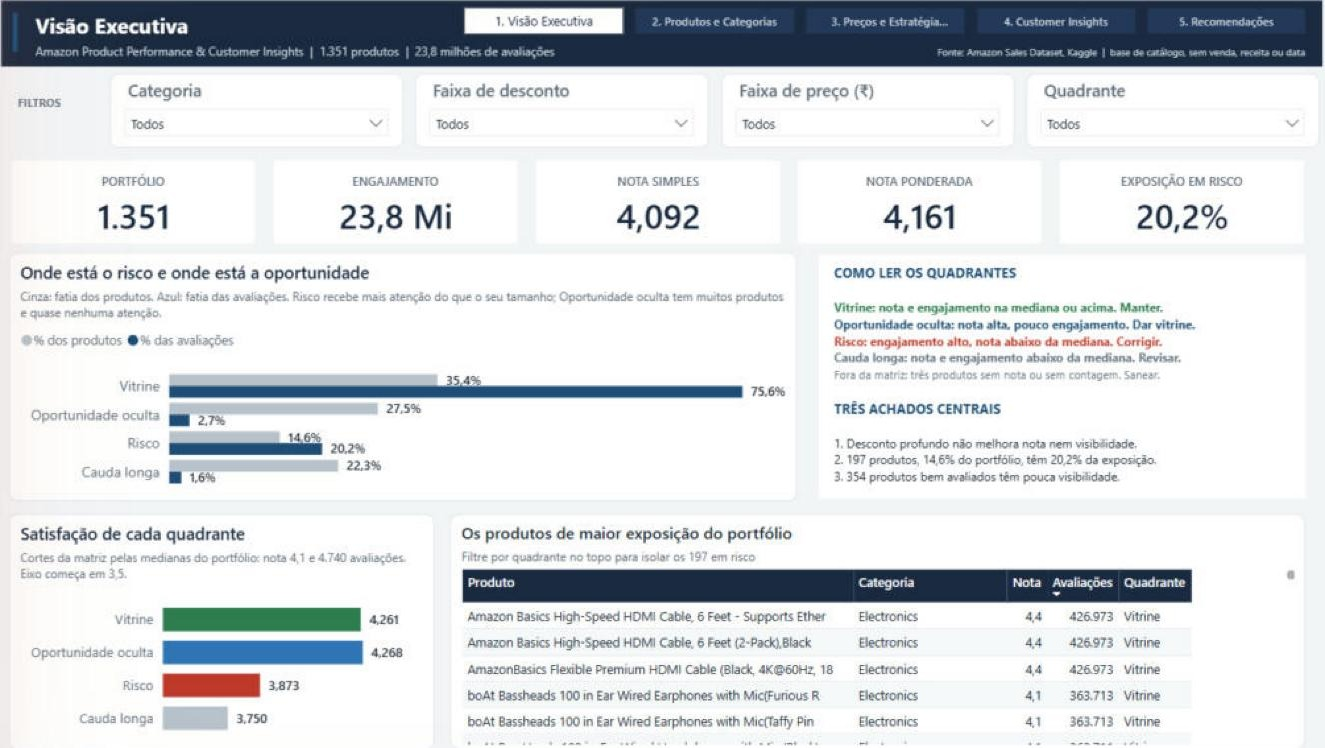

This screenshot's page, from the dashboard's own definition file:
{"tool":"powerbi","page":{"name":"1. Visão Executiva","canvas":[1280,720],"ordinal":0},"visuals":[{"type":"basicShape","box":[0,0,1280,64],"z":0},{"type":"basicShape","box":[0,64,1280,2],"z":1000},{"type":"basicShape","box":[24,12,5,38],"z":2000},{"type":"textbox","box":[40,6,400,41],"z":3000},{"type":"textbox","box":[40,36,760,28],"z":4000},{"type":"textbox","box":[800,36,456,26],"z":6000},{"type":"textbox","box":[24,84,84,28],"z":7000},{"type":"slicer","fields":{"Values":["fProdutos.categoria_n1_agrupada"]},"box":[116,70,278,70],"z":8000},{"type":"slicer","fields":{"Values":["fProdutos.faixa_desconto"]},"box":[406,70,278,70],"z":9000},{"type":"slicer","fields":{"Values":["fProdutos.faixa_preco"]},"box":[696,70,278,70],"z":10000},{"type":"slicer","fields":{"Values":["fProdutos.quadrante"]},"box":[986,70,278,70],"z":11000},{"type":"basicShape","box":[20,152,236,80],"z":12000},{"type":"basicShape","box":[20,152,236,4],"z":13000},{"type":"card","title":"PORTFÓLIO","fields":{"Values":["fProdutos.Produtos"]},"box":[20,158,236,74],"z":14000},{"type":"basicShape","box":[269,152,236,80],"z":15000},{"type":"basicShape","box":[269,152,236,4],"z":16000},{"type":"card","title":"ENGAJAMENTO","fields":{"Values":["fProdutos.Total de Avaliacoes"]},"box":[269,158,236,74],"z":17000},{"type":"basicShape","box":[518,152,236,80],"z":18000},{"type":"basicShape","box":[518,152,236,4],"z":19000},{"type":"card","title":"NOTA SIMPLES","fields":{"Values":["fProdutos.Nota Media Simples"]},"box":[518,158,236,74],"z":20000},{"type":"basicShape","box":[767,152,236,80],"z":21000},{"type":"basicShape","box":[767,152,236,4],"z":22000},{"type":"card","title":"NOTA PONDERADA","fields":{"Values":["fProdutos.Nota Media Ponderada"]},"box":[767,158,236,74],"z":23000},{"type":"basicShape","box":[1016,152,236,80],"z":24000},{"type":"basicShape","box":[1016,152,236,4],"z":25000},{"type":"card","title":"EXPOSIÇÃO EM RISCO","fields":{"Values":["fProdutos.Exposicao em Risco %"]},"box":[1016,158,236,74],"z":26000},{"type":"clusteredBarChart","title":"Onde está o risco e onde está a oportunidade","fields":{"Category":["fProdutos.quadrante"],"Y":["fProdutos.% dos Produtos no Portfolio","fProdutos.% das Avaliacoes no Portfolio"]},"box":[20,240,748,236],"z":27000},{"type":"basicShape","box":[784,240,472,236],"z":28000},{"type":"textbox","box":[798,246,444,226],"z":29000},{"type":"clusteredBarChart","title":"Satisfação de cada quadrante","fields":{"Category":["fProdutos.quadrante"],"Y":["fProdutos.Nota Media Simples"]},"box":[20,488,404,224],"z":30000},{"type":"tableEx","title":"Os produtos de maior exposição do portfólio","fields":{"Values":["fProdutos.rotulo","fProdutos.categoria_n1","fProdutos.nota","fProdutos.qtd_avaliacoes","fProdutos.quadrante"]},"box":[439,488,812,224],"z":31000},{"type":"pageNavigator","box":[452,7,804,26],"z":60000}]}

Visuals, with their boxes in screenshot pixels (x1, y1, x2, y2), scaled from the page's 1280x720 canvas onto the 1325x748 screenshot:
basicShape: (x1=0, y1=0, x2=1324, y2=66)
basicShape: (x1=0, y1=66, x2=1324, y2=69)
basicShape: (x1=25, y1=12, x2=30, y2=52)
textbox: (x1=41, y1=6, x2=455, y2=49)
textbox: (x1=41, y1=37, x2=828, y2=66)
textbox: (x1=828, y1=37, x2=1300, y2=64)
textbox: (x1=25, y1=87, x2=112, y2=116)
slicer - fProdutos.categoria_n1_agrupada: (x1=120, y1=73, x2=408, y2=145)
slicer - fProdutos.faixa_desconto: (x1=420, y1=73, x2=708, y2=145)
slicer - fProdutos.faixa_preco: (x1=720, y1=73, x2=1008, y2=145)
slicer - fProdutos.quadrante: (x1=1021, y1=73, x2=1308, y2=145)
basicShape: (x1=21, y1=158, x2=265, y2=241)
basicShape: (x1=21, y1=158, x2=265, y2=162)
"PORTFÓLIO" card: (x1=21, y1=164, x2=265, y2=241)
basicShape: (x1=278, y1=158, x2=523, y2=241)
basicShape: (x1=278, y1=158, x2=523, y2=162)
"ENGAJAMENTO" card: (x1=278, y1=164, x2=523, y2=241)
basicShape: (x1=536, y1=158, x2=781, y2=241)
basicShape: (x1=536, y1=158, x2=781, y2=162)
"NOTA SIMPLES" card: (x1=536, y1=164, x2=781, y2=241)
basicShape: (x1=794, y1=158, x2=1038, y2=241)
basicShape: (x1=794, y1=158, x2=1038, y2=162)
"NOTA PONDERADA" card: (x1=794, y1=164, x2=1038, y2=241)
basicShape: (x1=1052, y1=158, x2=1296, y2=241)
basicShape: (x1=1052, y1=158, x2=1296, y2=162)
"EXPOSIÇÃO EM RISCO" card: (x1=1052, y1=164, x2=1296, y2=241)
"Onde está o risco e onde está a oportunidade" clusteredBarChart: (x1=21, y1=249, x2=795, y2=495)
basicShape: (x1=812, y1=249, x2=1300, y2=495)
textbox: (x1=826, y1=256, x2=1286, y2=490)
"Satisfação de cada quadrante" clusteredBarChart: (x1=21, y1=507, x2=439, y2=740)
"Os produtos de maior exposição do portfólio" tableEx: (x1=454, y1=507, x2=1295, y2=740)
pageNavigator: (x1=468, y1=7, x2=1300, y2=34)
